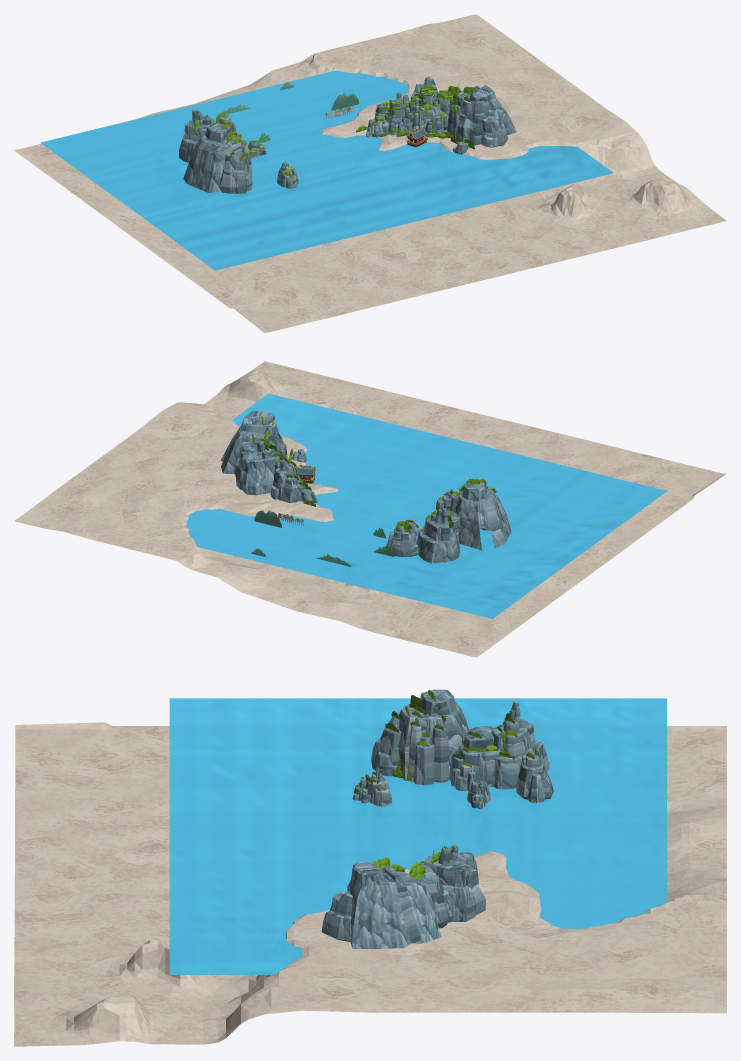
File: sea.glb
3 views of the same model, one above another, from view 1: azimuth 30°, elevation 25°; view 2: azimuth 150°, elevation 25°; view 3: azimuth 270°, elevation 25° (orthographic). The views are drawn at different scales.
Bounding box in the file's own units: 400 × 63.83 × 376.
Materials: 6 (5 with a texture image).
